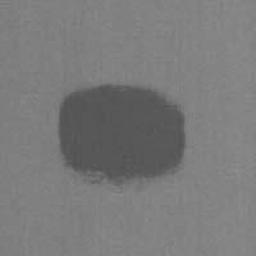Oil spot: (58, 82, 188, 193)
